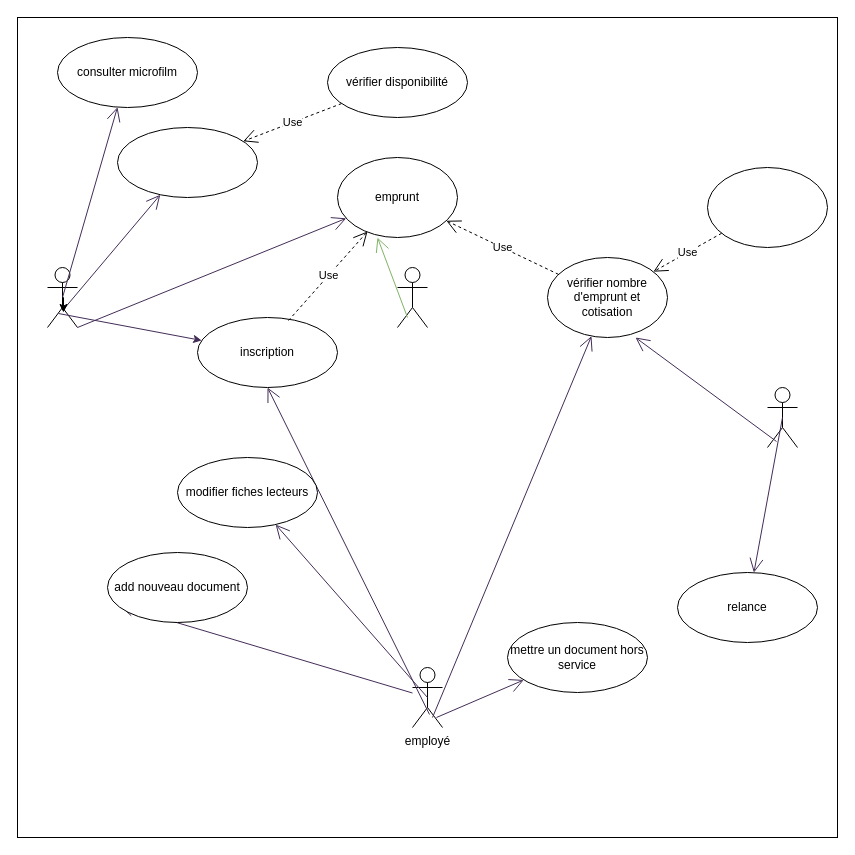
Some shapes in this 855 by 855 pixel diagram are drawn without their labels. Here are the shapes that lost their labels. From the top down, the centre of each, then its label:
the point at 187,162: consulter document
the point at 767,207: consulter la bdd
the point at 62,297: usager
the point at 412,297: benevole
the point at 782,417: bibliothecaire
